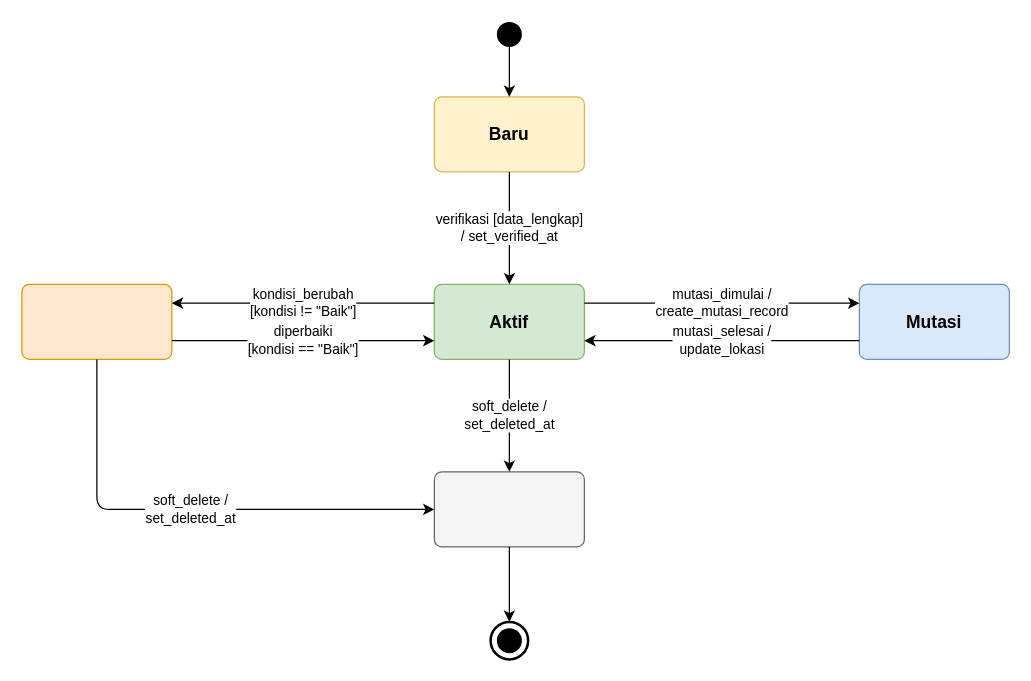
This 1031x681 diagram has some shape labels left out. Here are the shapes that lost their labels. From the top down, the centre of each, then its label:
(x=96, y=321): Rusak
(x=508, y=509): Dihapus
